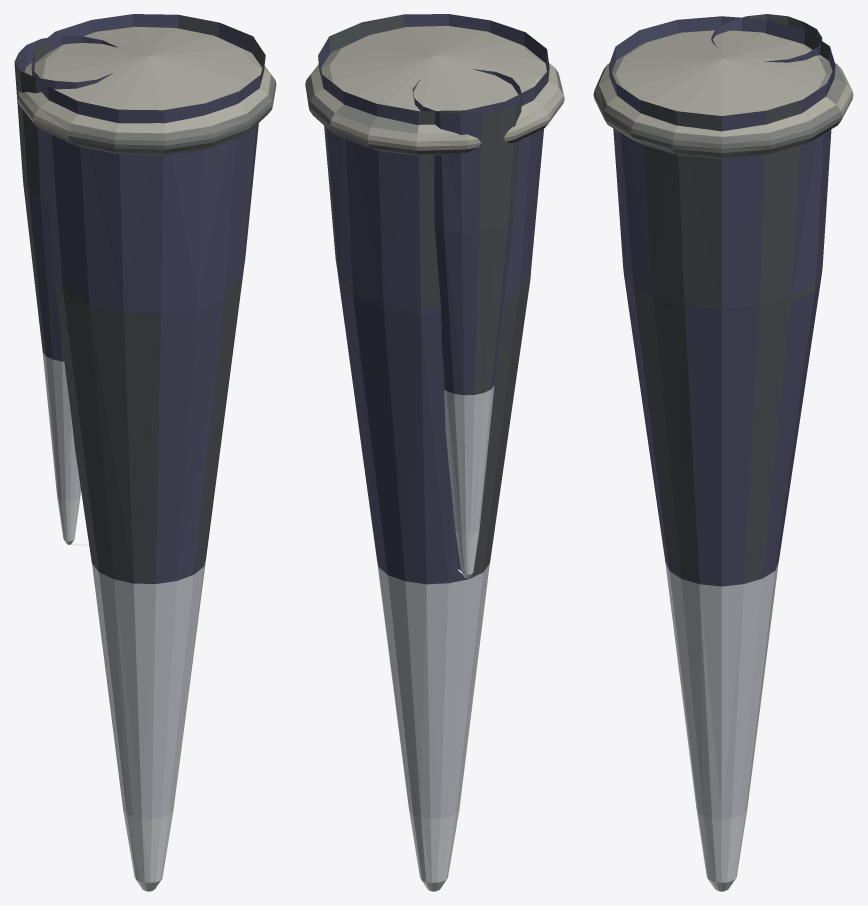
The model's file is StalactiteFar.obj.
3 views of the same model, side by side, from view 1: azimuth 30°, elevation 25°; view 2: azimuth 150°, elevation 25°; view 3: azimuth 270°, elevation 25° (orthographic).
Size of the model in its own units: 2.01 by 7.05 by 2.
